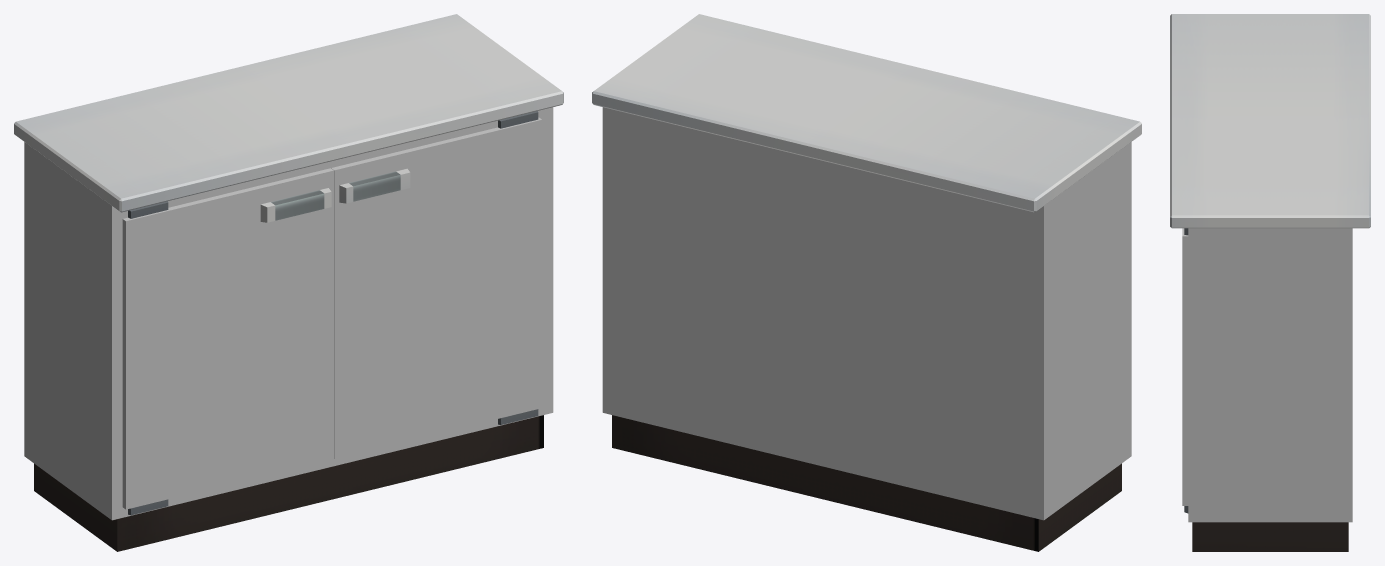
The model's file is pub_sink0b.fbx.
3 views of the same model, side by side, from view 1: azimuth 30°, elevation 25°; view 2: azimuth 150°, elevation 25°; view 3: azimuth 270°, elevation 25° (orthographic). The views are drawn at different scales.
Parts seen in each view (by area): view 1: pub_sink0b; view 2: pub_sink0b; view 3: pub_sink0b.
Boxes of the visible parts, left/top/right/bottom form: pub_sink0b: left=14, top=14, right=563, bottom=551; pub_sink0b: left=592, top=14, right=1141, bottom=551; pub_sink0b: left=1170, top=14, right=1370, bottom=551.
Size of the model in its own units: 1.21 by 0.9471 by 0.5077.
